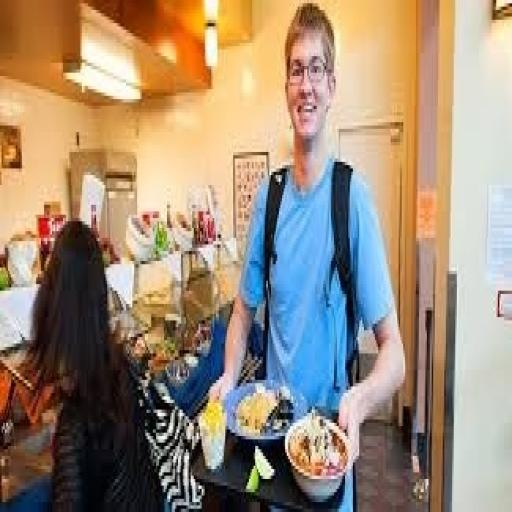eating: (9, 4, 408, 506), (208, 4, 406, 506)
